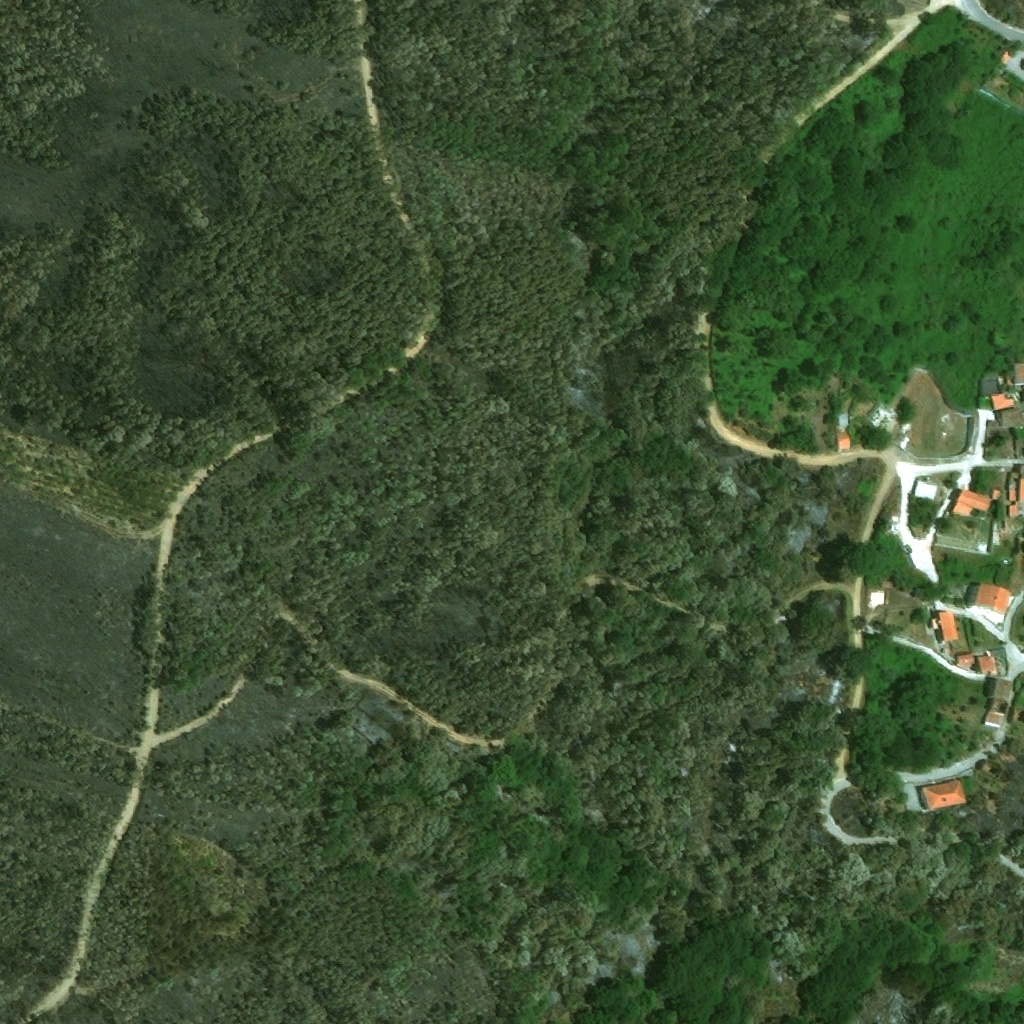0 no-damage: (949, 488, 1002, 518), (923, 778, 969, 810), (984, 678, 1014, 726), (974, 581, 1012, 615), (937, 610, 958, 641), (997, 405, 1023, 428), (914, 480, 938, 501), (991, 392, 1015, 411), (980, 377, 1000, 398), (956, 652, 976, 671), (978, 654, 996, 673), (836, 432, 851, 450), (998, 51, 1013, 66), (836, 411, 848, 426)
2 major-damage: (865, 401, 898, 433)
3 destroyed: (981, 758, 1001, 776)
4 un-classified: (1007, 464, 1023, 518), (1014, 363, 1023, 383), (909, 0, 930, 6)
